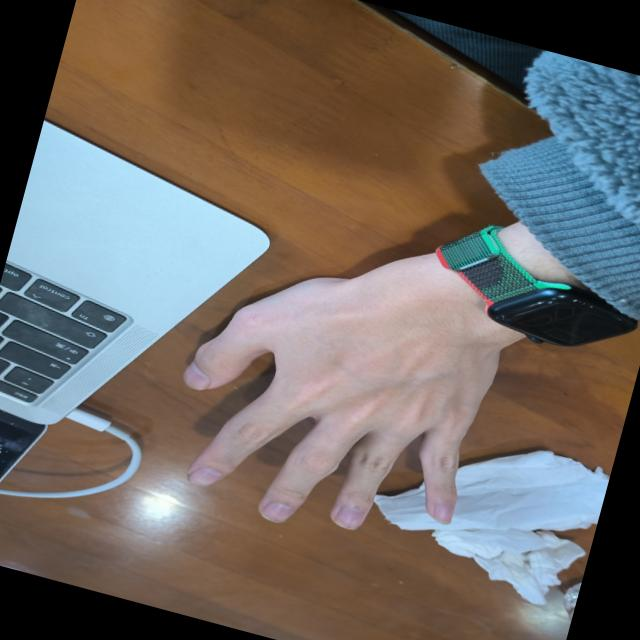Nail: (181, 360, 210, 388), (332, 505, 363, 528), (260, 500, 293, 521), (186, 466, 222, 485), (432, 501, 451, 523)
